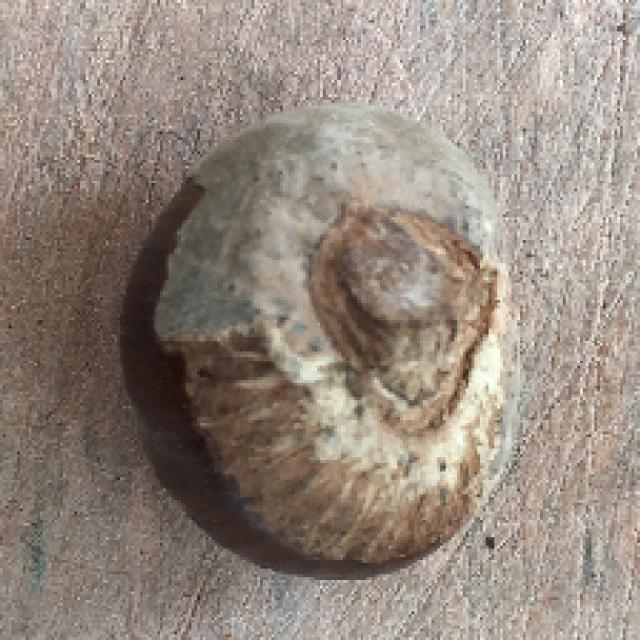DamagedHazelnut: (117, 100, 520, 582)
